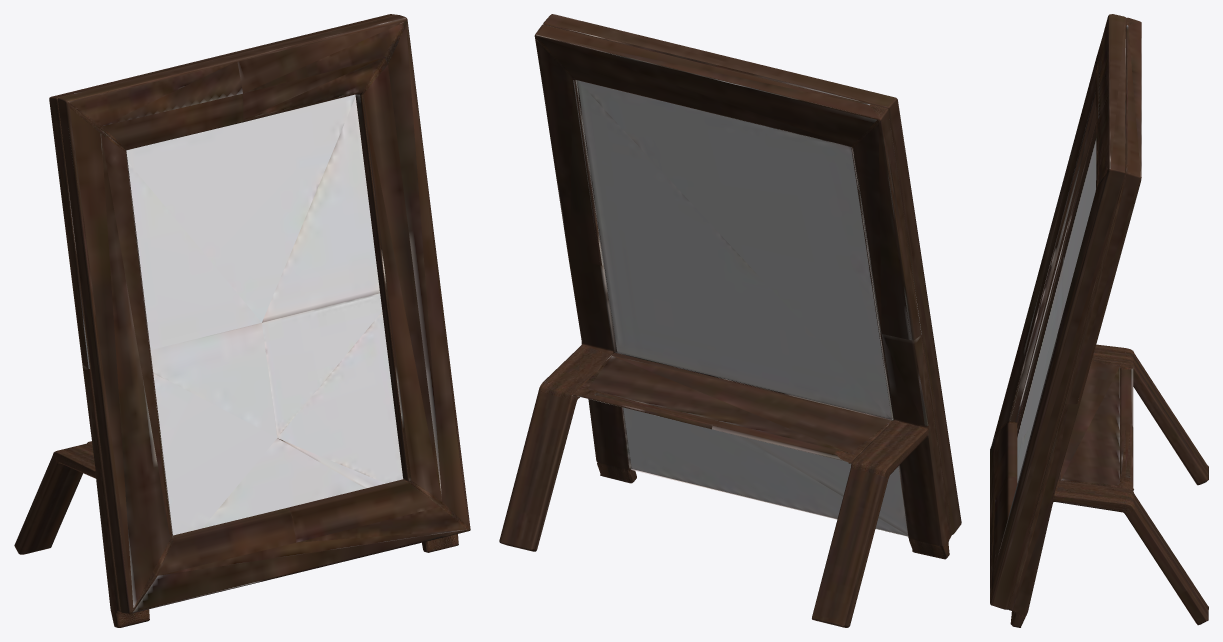
The model's file is photo_frame.glb.
3 views of the same model, side by side, from view 1: azimuth 30°, elevation 25°; view 2: azimuth 150°, elevation 25°; view 3: azimuth 270°, elevation 25° (orthographic). The views are drawn at different scales.
Size of the model in its own units: 0.1607 by 0.22 by 0.0949.
Materials: 1 (1 with a texture image).
